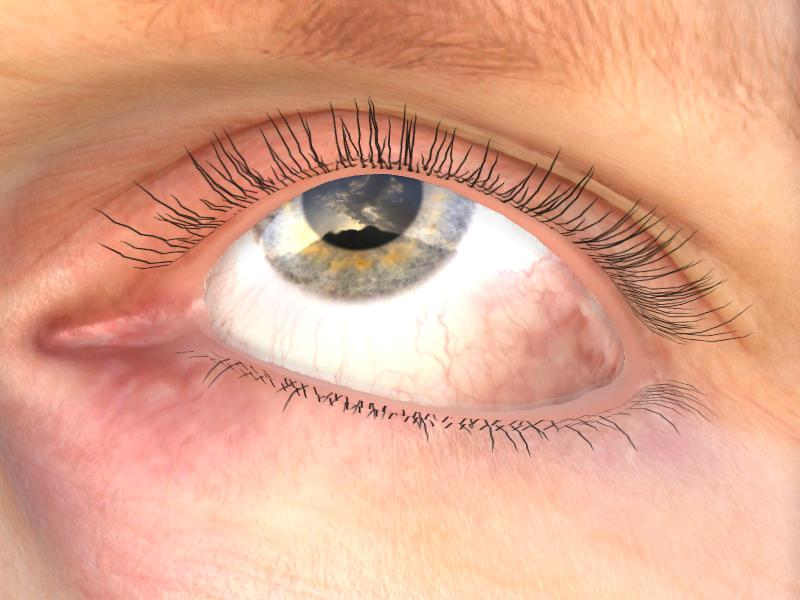eye: (253, 169, 473, 301)
